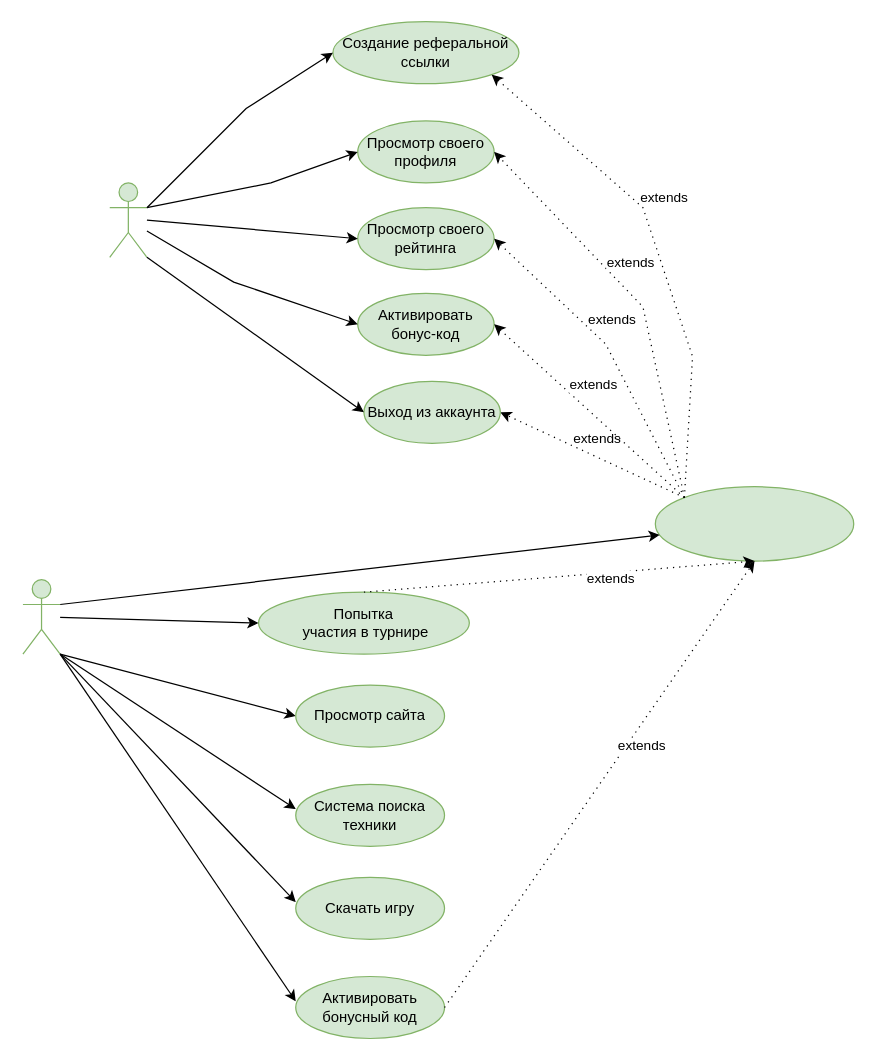
The diagram is 875 pixels wide and 1060 high, and some of its shapes have lost their labels. Each missing label, with the centre of its shape:
Guest: (41,616)
User: (127,219)
Регистрация / Авторизация пользователя: (754,523)
